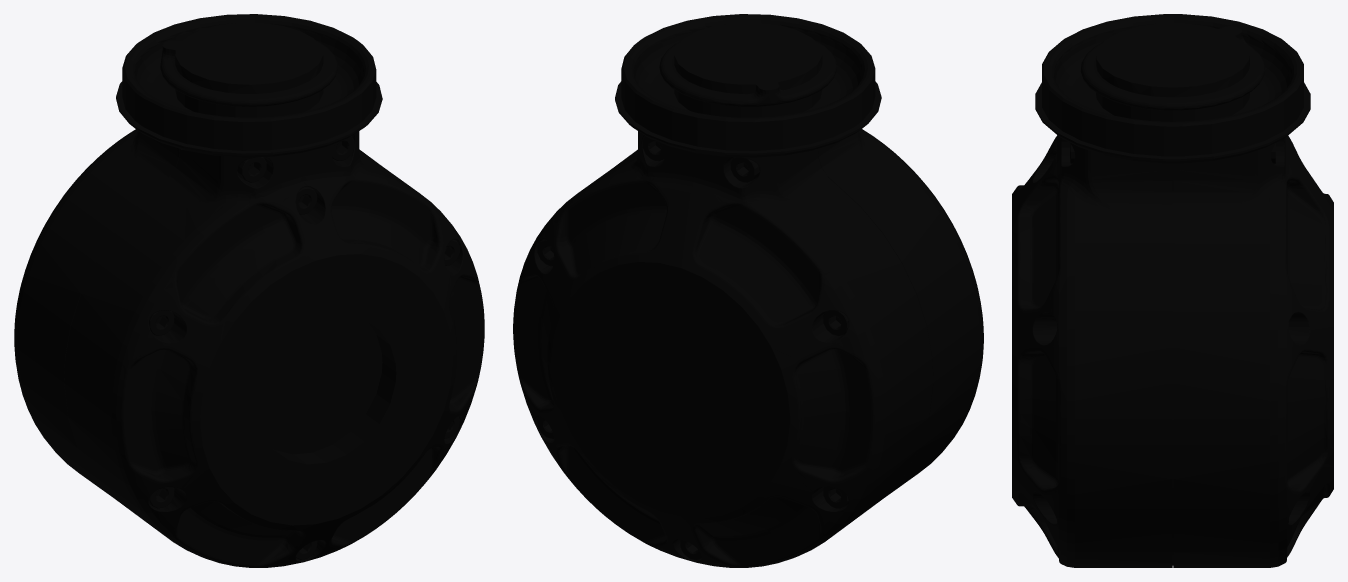
The model's file is right_arm_link1.usd.sapien.glb.
3 renders of one model, left to right at view 1: azimuth 30°, elevation 25°; view 2: azimuth 150°, elevation 25°; view 3: azimuth 270°, elevation 25°, orthographic. The views are drawn at different scales.
Parts seen in each view (by area): view 1: Mesh; view 2: Mesh; view 3: Mesh.
Part boxes in pixels (box(x1,y1,x2,y2)): Mesh: box(14, 14, 484, 567); Mesh: box(513, 14, 983, 567); Mesh: box(1012, 14, 1333, 567).
Size of the model in its own units: 0.101 by 0.1234 by 0.0732.
1 material, 1 textured.
